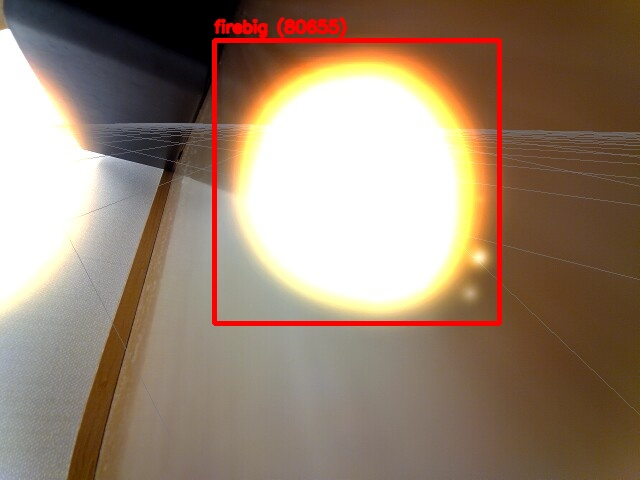firebig: (214, 40, 499, 323)
